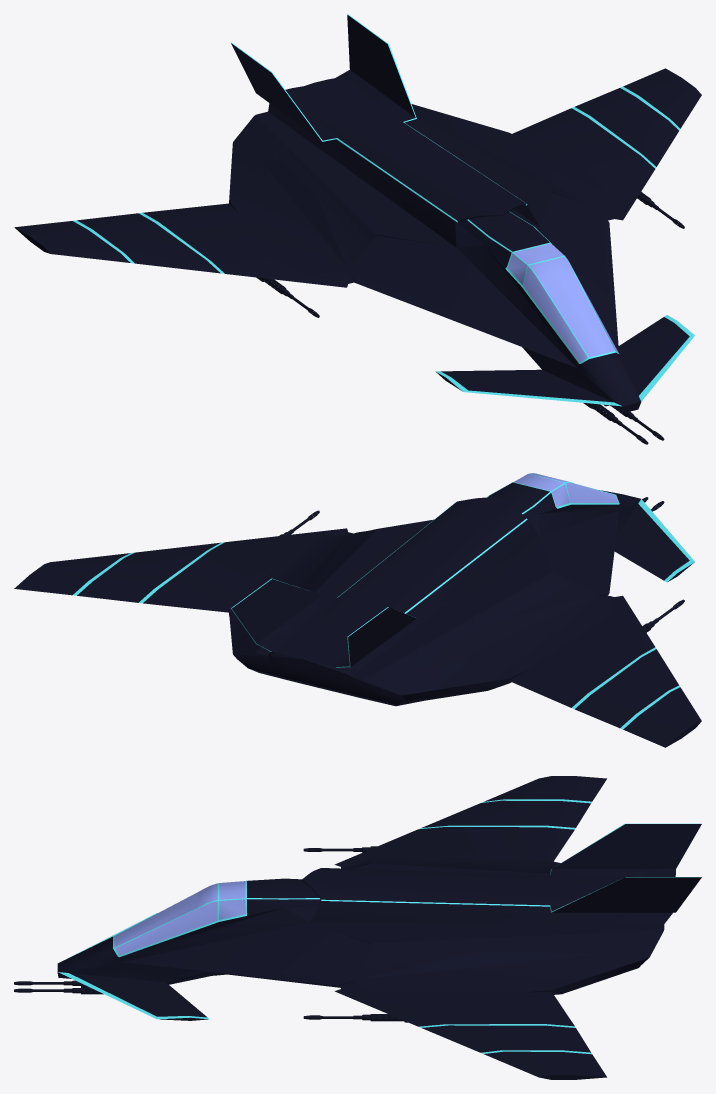
The model's file is lib3rico.FBX.
3 views of the same model, one above another, from view 1: azimuth 30°, elevation 25°; view 2: azimuth 150°, elevation 25°; view 3: azimuth 270°, elevation 25° (orthographic). The views are drawn at different scales.
Visible parts, largest first — view 1: lib3ricobody; view 2: lib3ricobody; view 3: lib3ricobody.
Part boxes in pixels (box(x1,y1,x2,y2)): lib3ricobody: box(14, 14, 701, 444); lib3ricobody: box(14, 473, 701, 747); lib3ricobody: box(14, 776, 701, 1079).
Bounding box in the file's own units: 0.6411 × 0.1416 × 0.6236.
